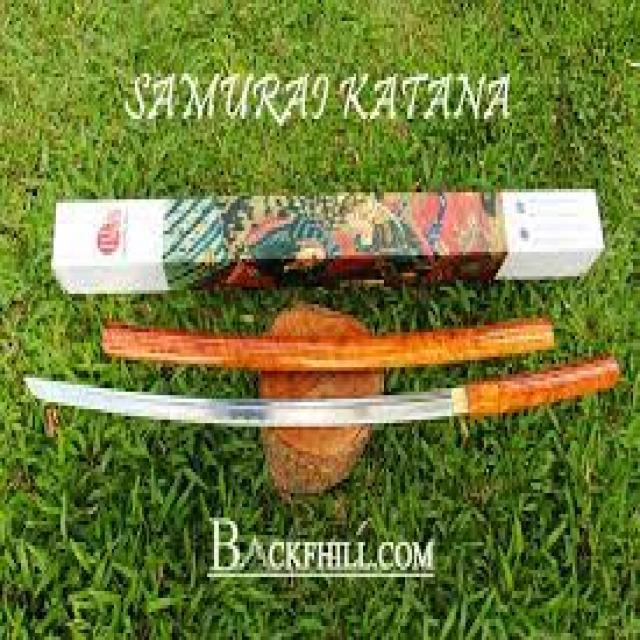long sword: (22, 354, 620, 510)
